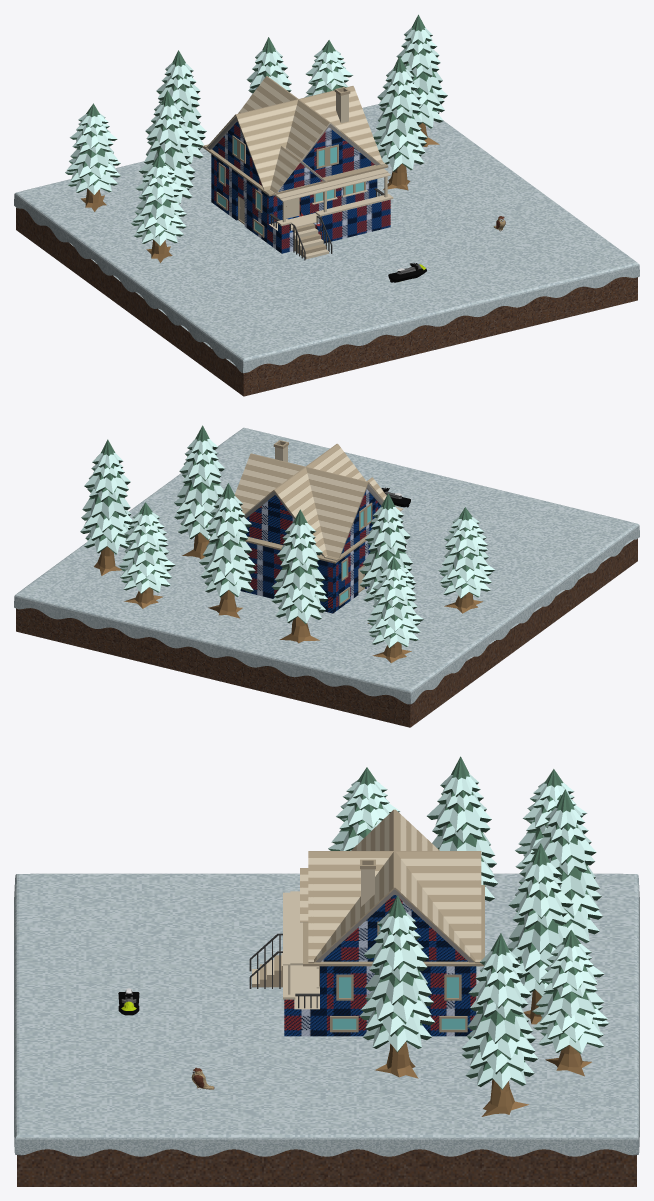
3 renders of one model, top to bottom at view 1: azimuth 30°, elevation 25°; view 2: azimuth 150°, elevation 25°; view 3: azimuth 270°, elevation 25°, orthographic. The views are drawn at different scales.
Visible parts, largest first — view 1: Cube.003, Cube.171; view 2: Cube.003, Cube.171; view 3: Cube.003, Cube.171.
Part boxes in pixels (box(x1,y1,x2,y2)): Cube.003: box(14, 14, 639, 396); Cube.171: box(202, 76, 393, 260); Cube.003: box(14, 425, 639, 727); Cube.171: box(234, 440, 405, 613); Cube.003: box(14, 756, 639, 1186); Cube.171: box(249, 809, 484, 1036).
Bounding box in the file's own units: 4040 × 1665 × 4040.
Materials: 22 (4 with a texture image).
